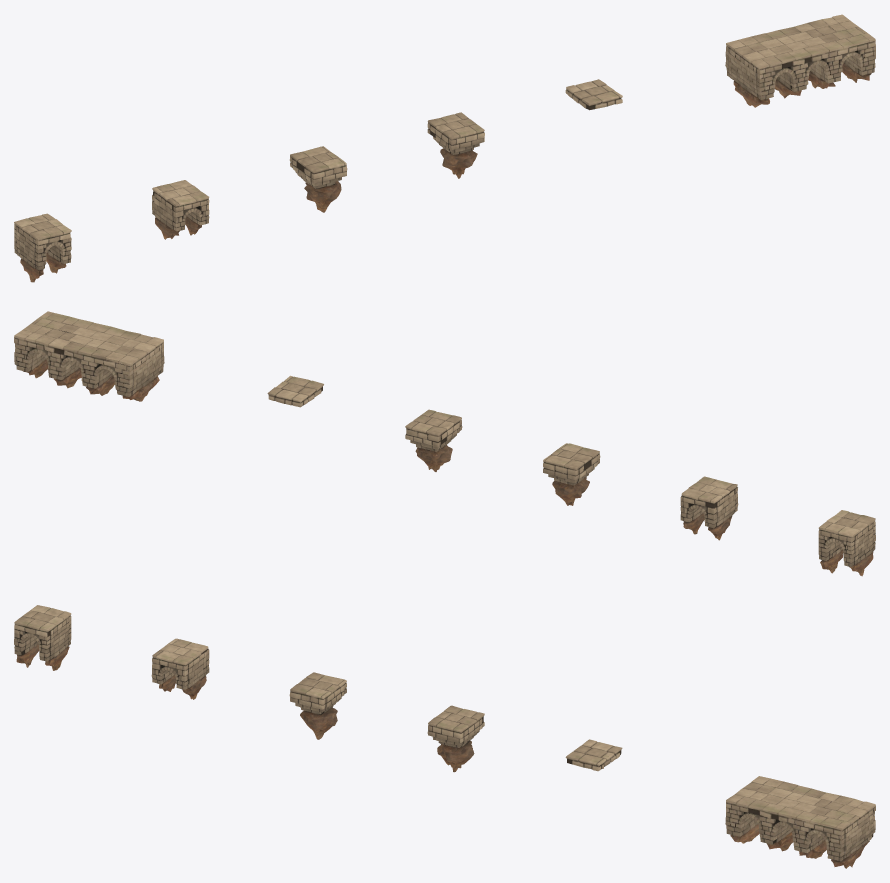
The model's file is bridge.glb.
The picture shows the model from 3 angles, top to bottom: view 1: azimuth 30°, elevation 25°; view 2: azimuth 150°, elevation 25°; view 3: azimuth 330°, elevation 25°; orthographic projection.
Visible parts, largest first — view 1: plaza, seg_a1, seg_a2, seg_b1, seg_b2, deck; view 2: plaza, seg_a1, seg_a2, seg_b1, seg_b2, deck; view 3: plaza, seg_a1, seg_a2, seg_b1, seg_b2, deck.
Part boxes in pixels (x1,y1,x2,y2): plaza: (725, 14, 875, 107); seg_a1: (14, 213, 71, 282); seg_a2: (152, 180, 209, 239); seg_b1: (289, 146, 347, 212); seg_b2: (427, 112, 484, 178); deck: (565, 79, 622, 110); plaza: (14, 311, 164, 401); seg_a1: (818, 510, 875, 576); seg_a2: (680, 476, 738, 540); seg_b1: (543, 443, 600, 505); seg_b2: (405, 409, 462, 471); deck: (267, 375, 323, 407); plaza: (725, 776, 875, 868); seg_a1: (14, 605, 71, 670); seg_a2: (151, 638, 209, 699); seg_b1: (289, 672, 346, 739); seg_b2: (427, 705, 484, 772); deck: (565, 739, 622, 771).
Size of the model in its own units: 48.55 by 2.94 by 3.53.
Materials: 1 (1 with a texture image).
